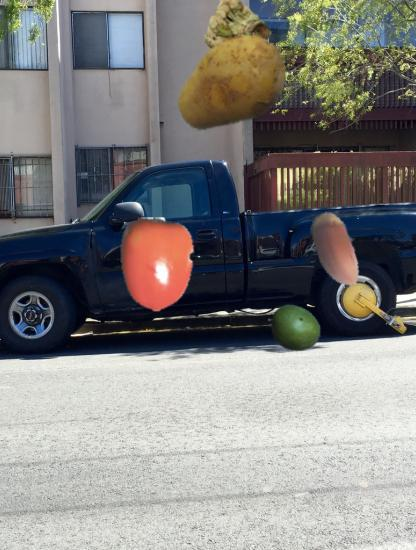Cauliflower: (202, 0, 268, 66)
Hazelnut: (296, 210, 376, 290)
Kaki: (110, 217, 205, 312)
Mango: (267, 301, 322, 356)
Potato: (171, 24, 293, 146)
